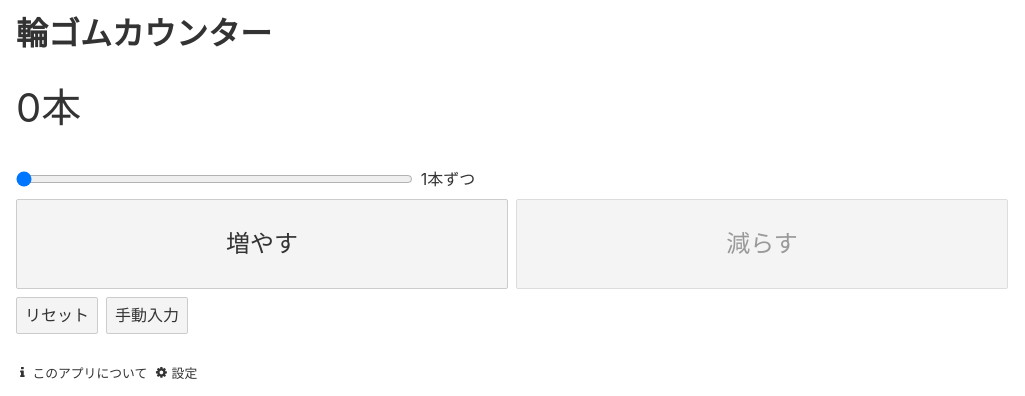
Test: Counter and buttons › Clicking on the increase/decrease buttons updates the counter
This screenshot has width=1025, height=396.
Click the button with test id "increase-btn".
click(262, 244)  # box [16, 199, 508, 289]
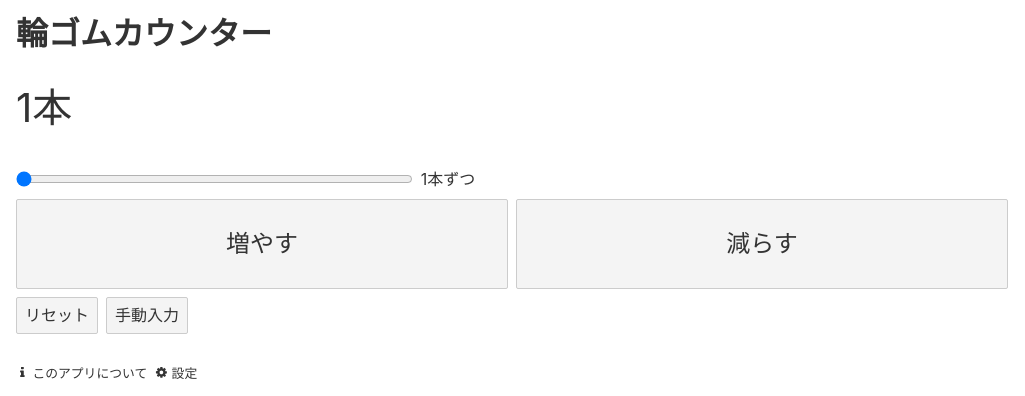
expect the text with test id "counter-value" reads "1": met, box [16, 83, 32, 132]
expect the button with test id "decrease-btn" is enabled: met
Click the button with test id "decrease-btn".
click(762, 244)  # box [516, 199, 1008, 289]
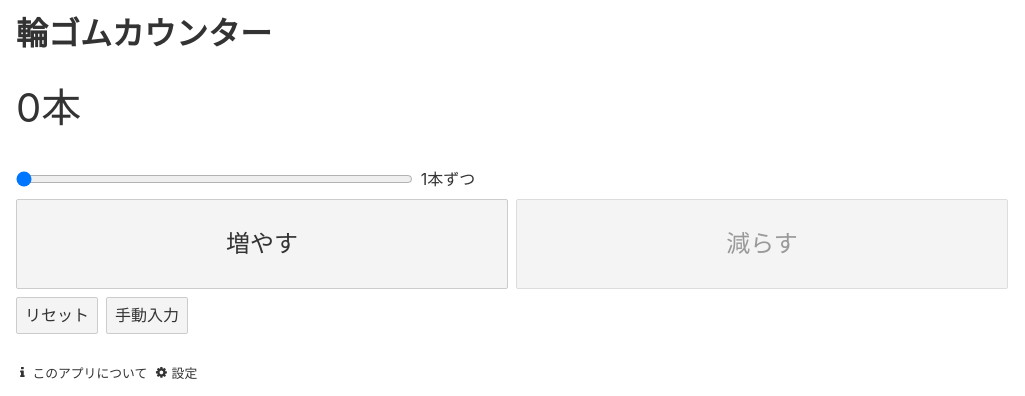
expect the text with test id "counter-value" reads "0": met, box [16, 83, 41, 132]
expect the button with test id "decrease-btn" is enabled: met, box [516, 199, 1008, 289]
